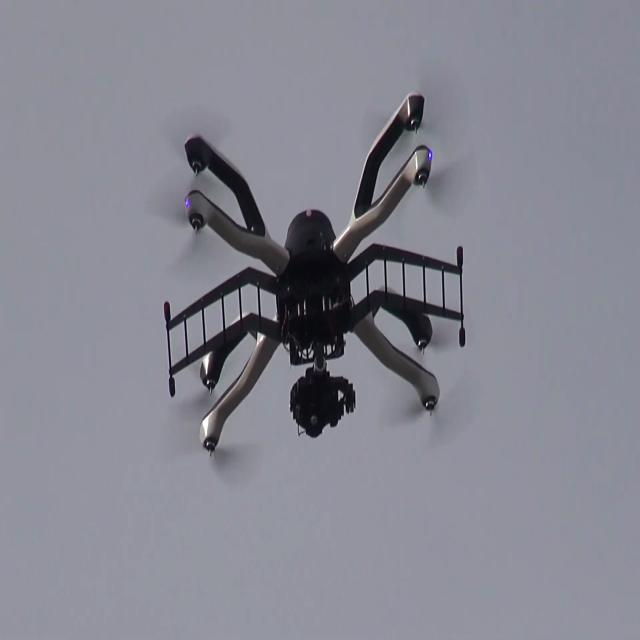drone: (164, 90, 468, 457)
